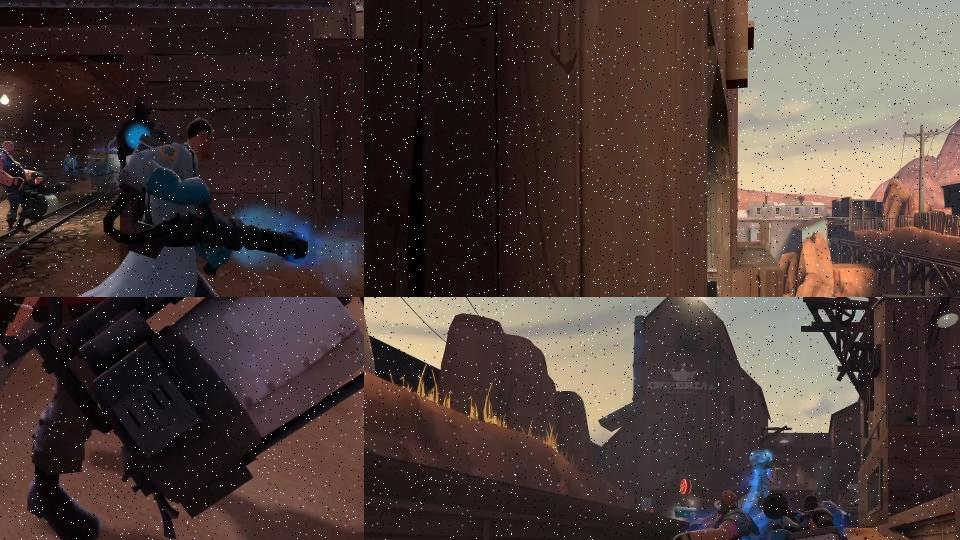Enemy: (0, 297, 364, 540), (11, 117, 309, 297), (626, 489, 759, 540), (0, 140, 68, 235), (64, 152, 88, 190)
